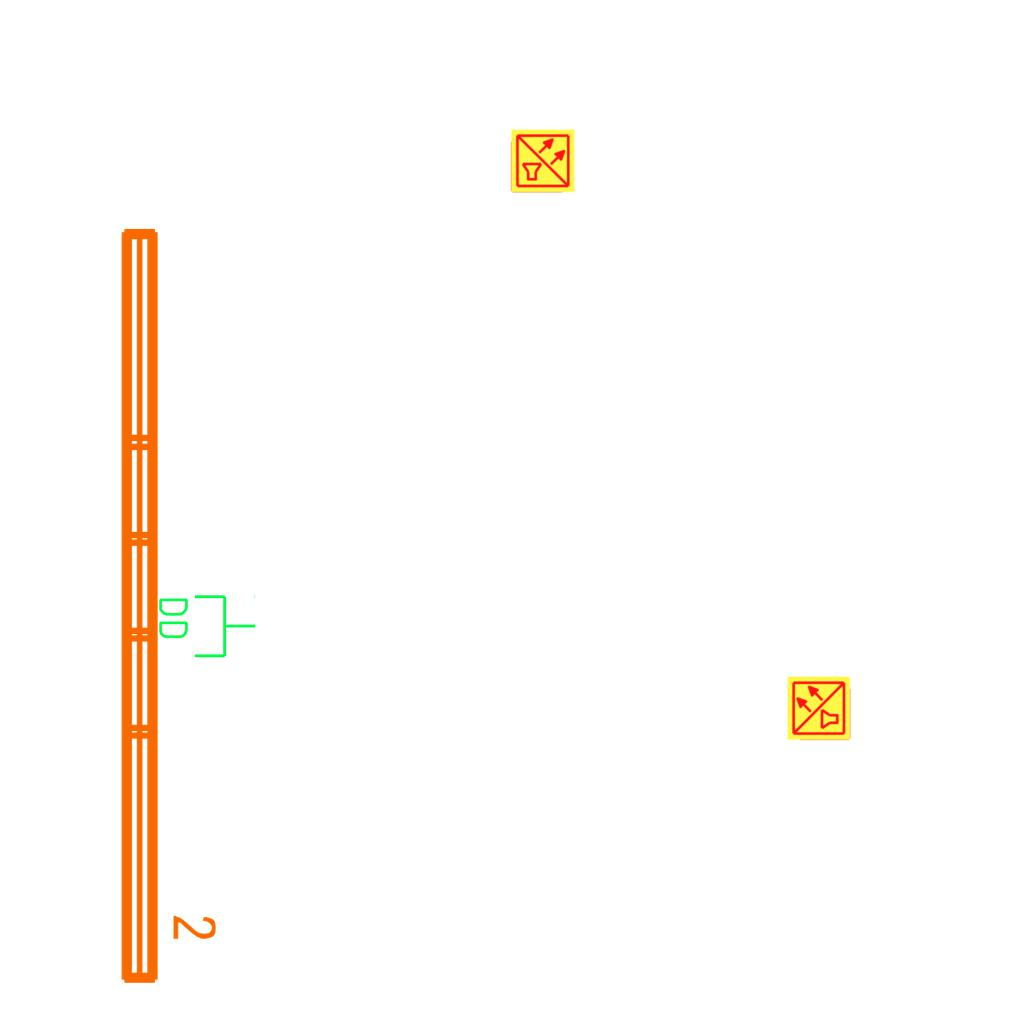Ambulanz_Pendelleuchte_LED: (109, 218, 221, 992)
Datenanschluss_zweifach: (155, 591, 258, 660)
OKW_Multisensormelder_(Kombination_optischer_Rauch-Kahlenmonoxid_Waerme-Melder): (510, 128, 576, 194), (786, 675, 852, 741)
